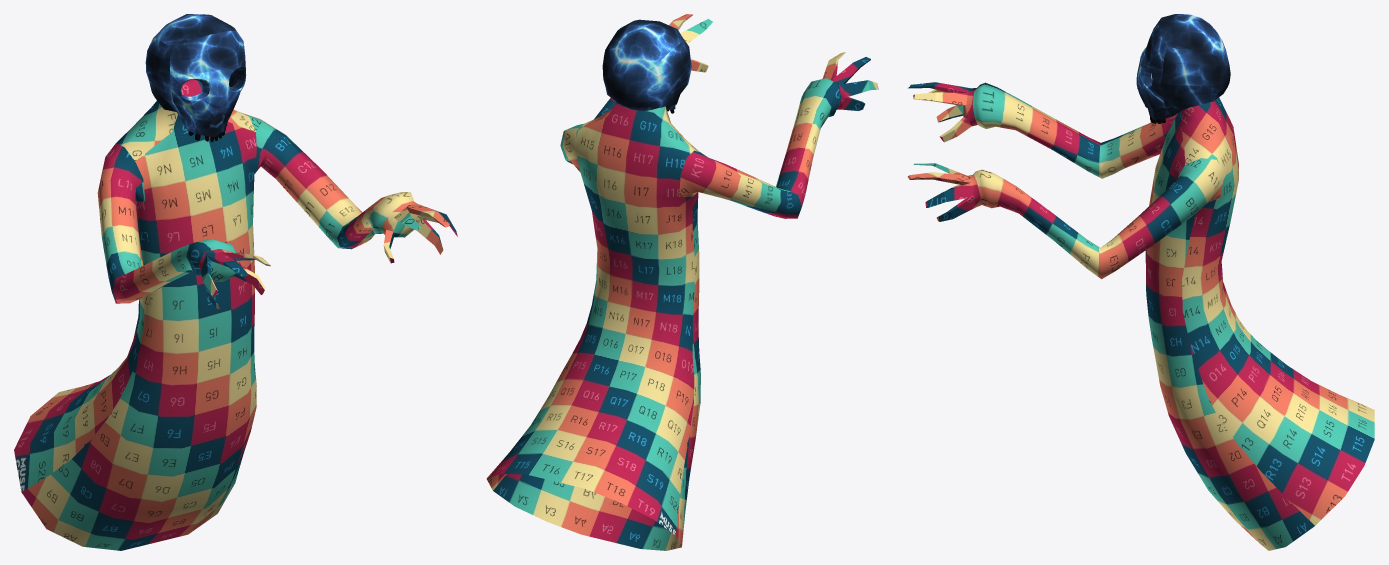
Rendered from Spectre_mesh.FBX.
The picture shows the model from 3 angles, left to right: view 1: azimuth 30°, elevation 25°; view 2: azimuth 150°, elevation 25°; view 3: azimuth 270°, elevation 25°; orthographic projection. The views are drawn at different scales.
Parts seen in each view (by area): view 1: Corps, Crâne; view 2: Corps, Crâne; view 3: Corps, Crâne.
Boxes of the visible parts, x1,y1,x2,y2 form: Corps: (14,79,457,550); Crâne: (145,14,245,137); Corps: (486,14,878,550); Crâne: (602,19,691,111); Corps: (907,82,1374,550); Crâne: (1136,14,1230,120).
Size of the model in its own units: 67.83 by 138 by 115.
Materials: 3 (2 with a texture image).
